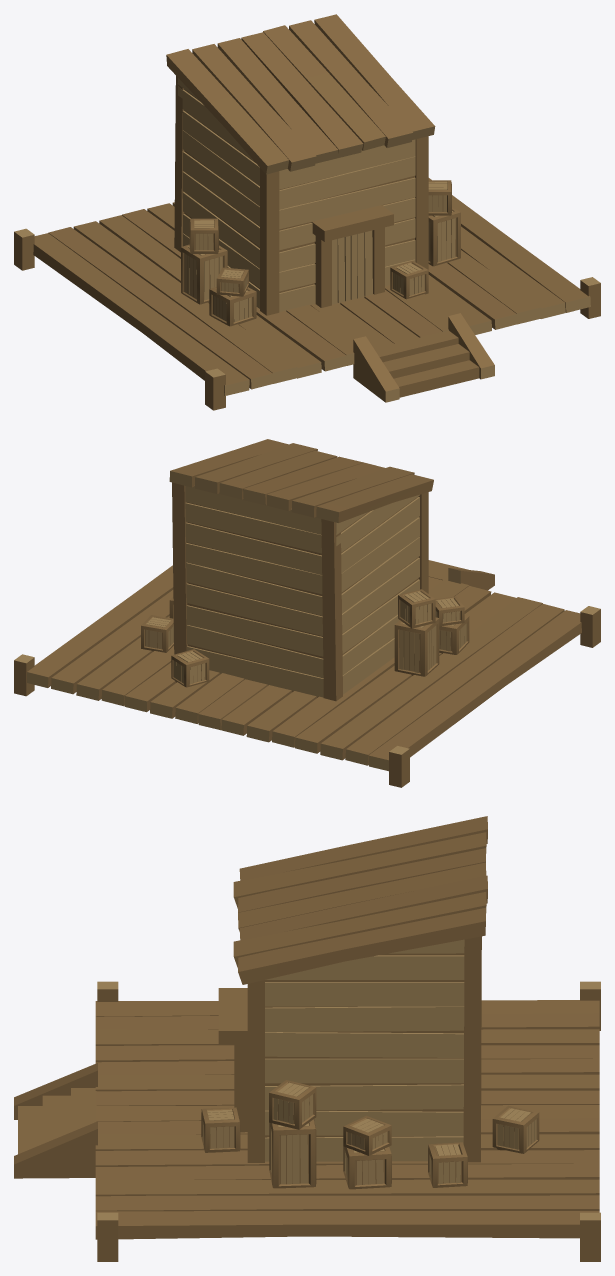
Rendered from quaternius-ultimate-fantasy-rts-storage-firstage-level-1.glb.
3 renders of one model, top to bottom at view 1: azimuth 30°, elevation 25°; view 2: azimuth 150°, elevation 25°; view 3: azimuth 270°, elevation 25°, orthographic. The views are drawn at different scales.
Parts seen in each view (by area): view 1: Storage_FirstAge_Level1; view 2: Storage_FirstAge_Level1; view 3: Storage_FirstAge_Level1.
Part boxes in pixels (bbox=[...]): Storage_FirstAge_Level1: bbox=[14, 14, 600, 410]; Storage_FirstAge_Level1: bbox=[14, 439, 600, 787]; Storage_FirstAge_Level1: bbox=[14, 816, 600, 1261].
Bounding box in the file's own units: 1.41 × 0.7613 × 1.47.
